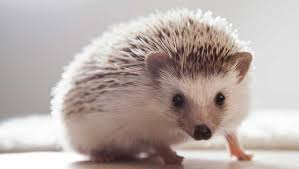hedgehog: (47, 6, 258, 167)
